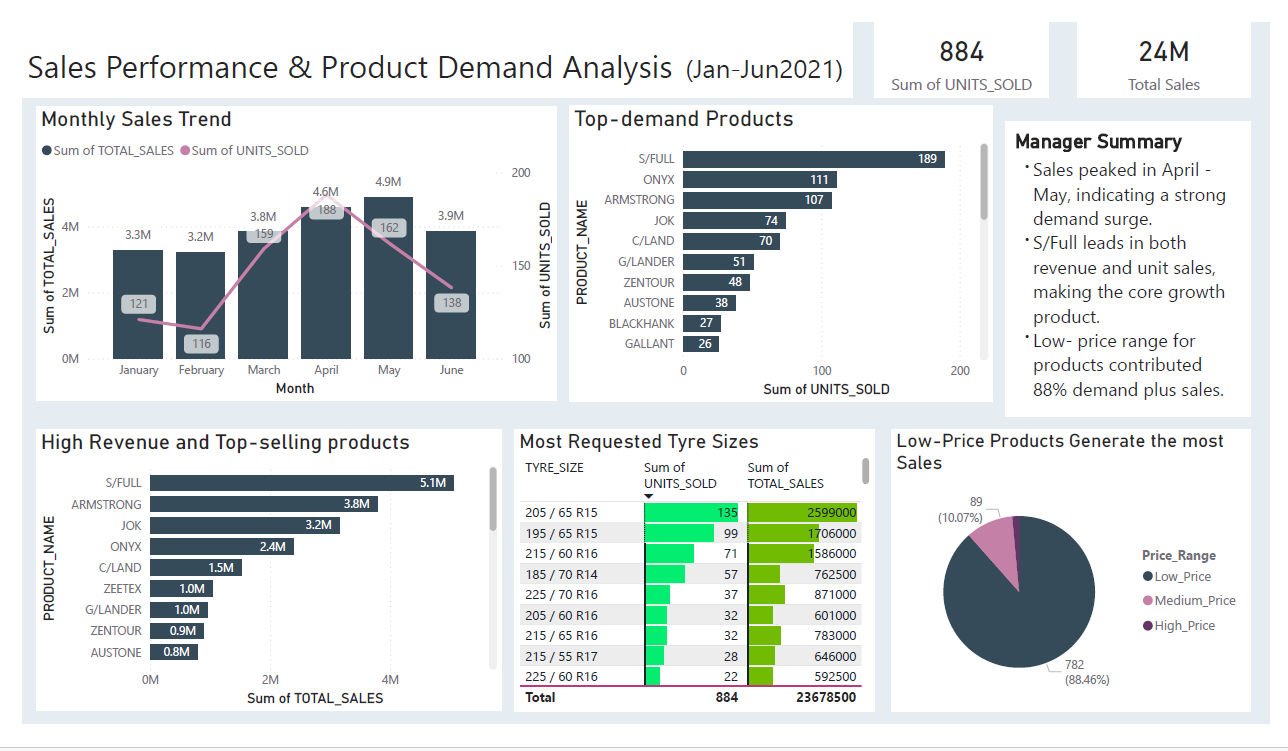

This screenshot's page, from the dashboard's own definition file:
{"tool":"powerbi","page":{"name":"Page 1","canvas":[1280,720],"ordinal":0},"visuals":[{"type":"card","title":"Total Revenue","fields":{"Values":["Sum(Tyre_2021Dataset.UNITS_SOLD)"]},"box":[875,0,177.6,77.5],"z":0},{"type":"textbox","box":[0,0,852.3,77.5],"z":1000},{"type":"lineStackedColumnComboChart","title":"Monthly Sales Trend","fields":{"Category":["Clean Sheet.SALE_DATE.Variation.Date Hierarchy.Month"],"Y":["Sum(Clean Sheet.TOTAL_SALES)"],"Y2":["Sum(Clean Sheet.UNITS_SOLD)"]},"box":[14,86,534,302],"z":2000},{"type":"barChart","title":"Top-demand Products ","fields":{"Category":["Clean Sheet.PRODUCT_NAME"],"Y":["Sum(Clean Sheet.UNITS_SOLD)"]},"box":[561.3,85,434.6,304.3],"z":3000},{"type":"barChart","title":"High Revenue and Top-selling products","fields":{"Category":["Tyre_2021Dataset.PRODUCT_NAME"],"Y":["Sum(Tyre_2021Dataset.TOTAL_SALES)"]},"box":[14,418,478,288],"z":4000},{"type":"pieChart","title":"Low-Price Products Generate the most Sales","fields":{"Category":["Tyre_2021Dataset.Price_Range"],"Y":["Sum(Tyre_2021Dataset.UNITS_SOLD)","select"]},"box":[892,417.6,368.5,289.1],"z":5000},{"type":"tableEx","title":"Most Requested Tyre Sizes","fields":{"Values":["Tyre_2021Dataset.TYRE_SIZE","Sum(Tyre_2021Dataset.UNITS_SOLD)","Sum(Tyre_2021Dataset.TOTAL_SALES)"]},"box":[504.6,417.6,370.4,289.1],"z":6000},{"type":"card","title":"Total Revenue","fields":{"Values":["Sum(Tyre_2021Dataset.TOTAL_SALES)"]},"box":[1082.8,0,177.6,77.5],"z":7000},{"type":"textbox","title":"Manager Summary","box":[1009.1,102,251.3,302.4],"z":8000}]}

Visuals, with their boxes on the page's 1280x720 design canvas (x1, y1, x2, y2). These are canvas units, not pixel positions in the 1288x751 screenshot, which may show the page scaled, cropped or inside an application window:
"Total Revenue" card: rect(875, 0, 1053, 78)
textbox: rect(0, 0, 852, 78)
"Monthly Sales Trend" lineStackedColumnComboChart: rect(14, 86, 548, 388)
"Top-demand Products " barChart: rect(561, 85, 996, 389)
"High Revenue and Top-selling products" barChart: rect(14, 418, 492, 706)
"Low-Price Products Generate the most Sales" pieChart: rect(892, 418, 1260, 707)
"Most Requested Tyre Sizes" tableEx: rect(505, 418, 875, 707)
"Total Revenue" card: rect(1083, 0, 1260, 78)
"Manager Summary" textbox: rect(1009, 102, 1260, 404)
